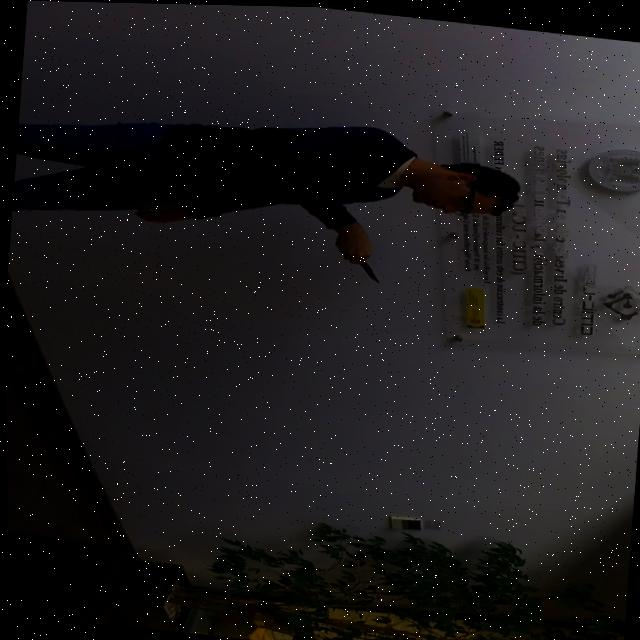knife: (356, 258, 381, 280)
